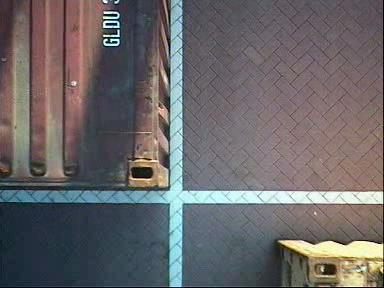groundmarker_2: (38, 59, 103, 101)
